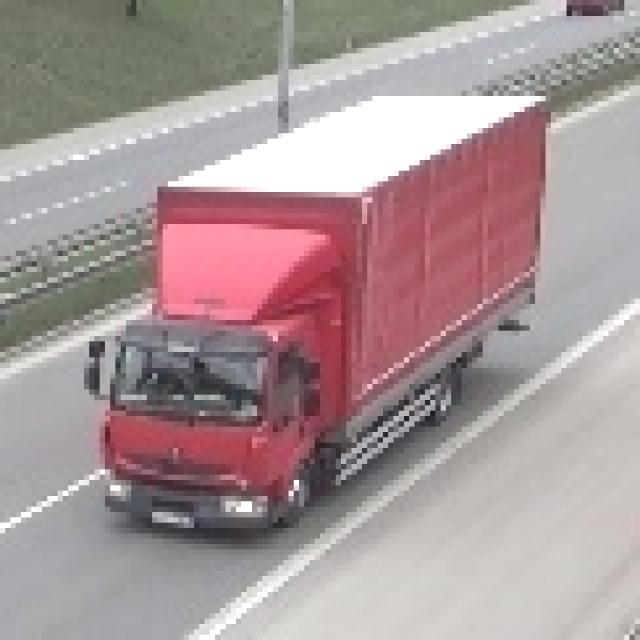truck: (80, 81, 547, 534)
